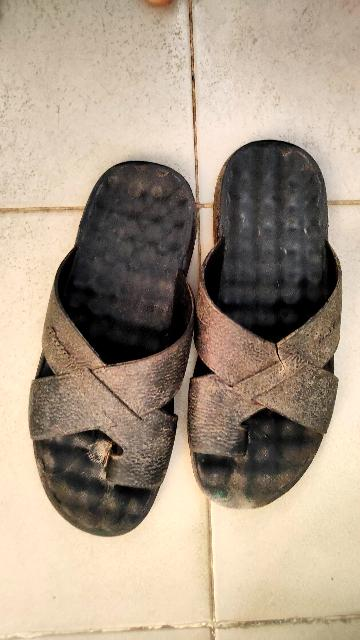sandal: (0, 153, 212, 536), (161, 120, 356, 502)
